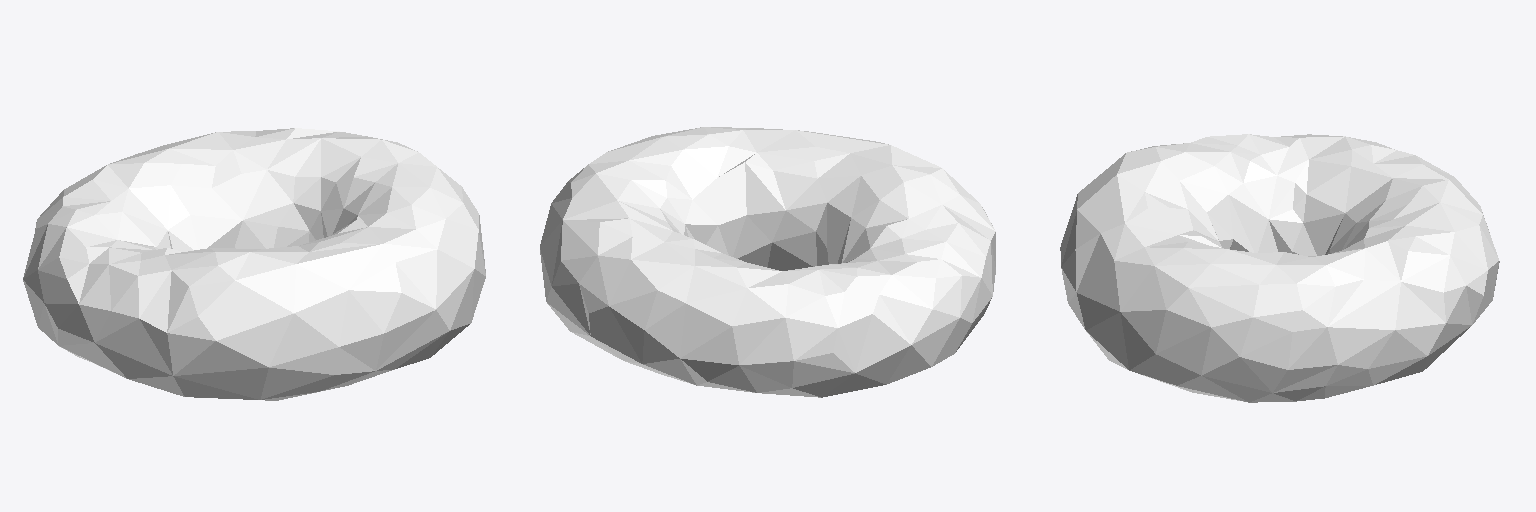
The model's file is 3DBread005_LQ-4K-PNG.obj.
The picture shows the model from 3 angles: view 1: azimuth 30°, elevation 25°; view 2: azimuth 150°, elevation 25°; view 3: azimuth 270°, elevation 25°; orthographic projection.
Parts seen in each view (by area): view 1: 3DBread005_LQ-4K-PNG; view 2: 3DBread005_LQ-4K-PNG; view 3: 3DBread005_LQ-4K-PNG.
Part boxes in pixels (x1,y1,x2,y2): 3DBread005_LQ-4K-PNG: (23, 128, 485, 400); 3DBread005_LQ-4K-PNG: (540, 127, 995, 397); 3DBread005_LQ-4K-PNG: (1060, 134, 1499, 402).
Bounding box in the file's own units: 0.1297 × 0.0388 × 0.1222.